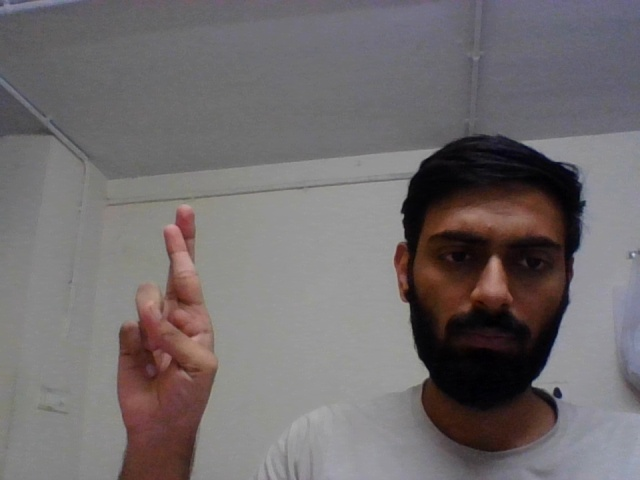R: (110, 197, 223, 459)
